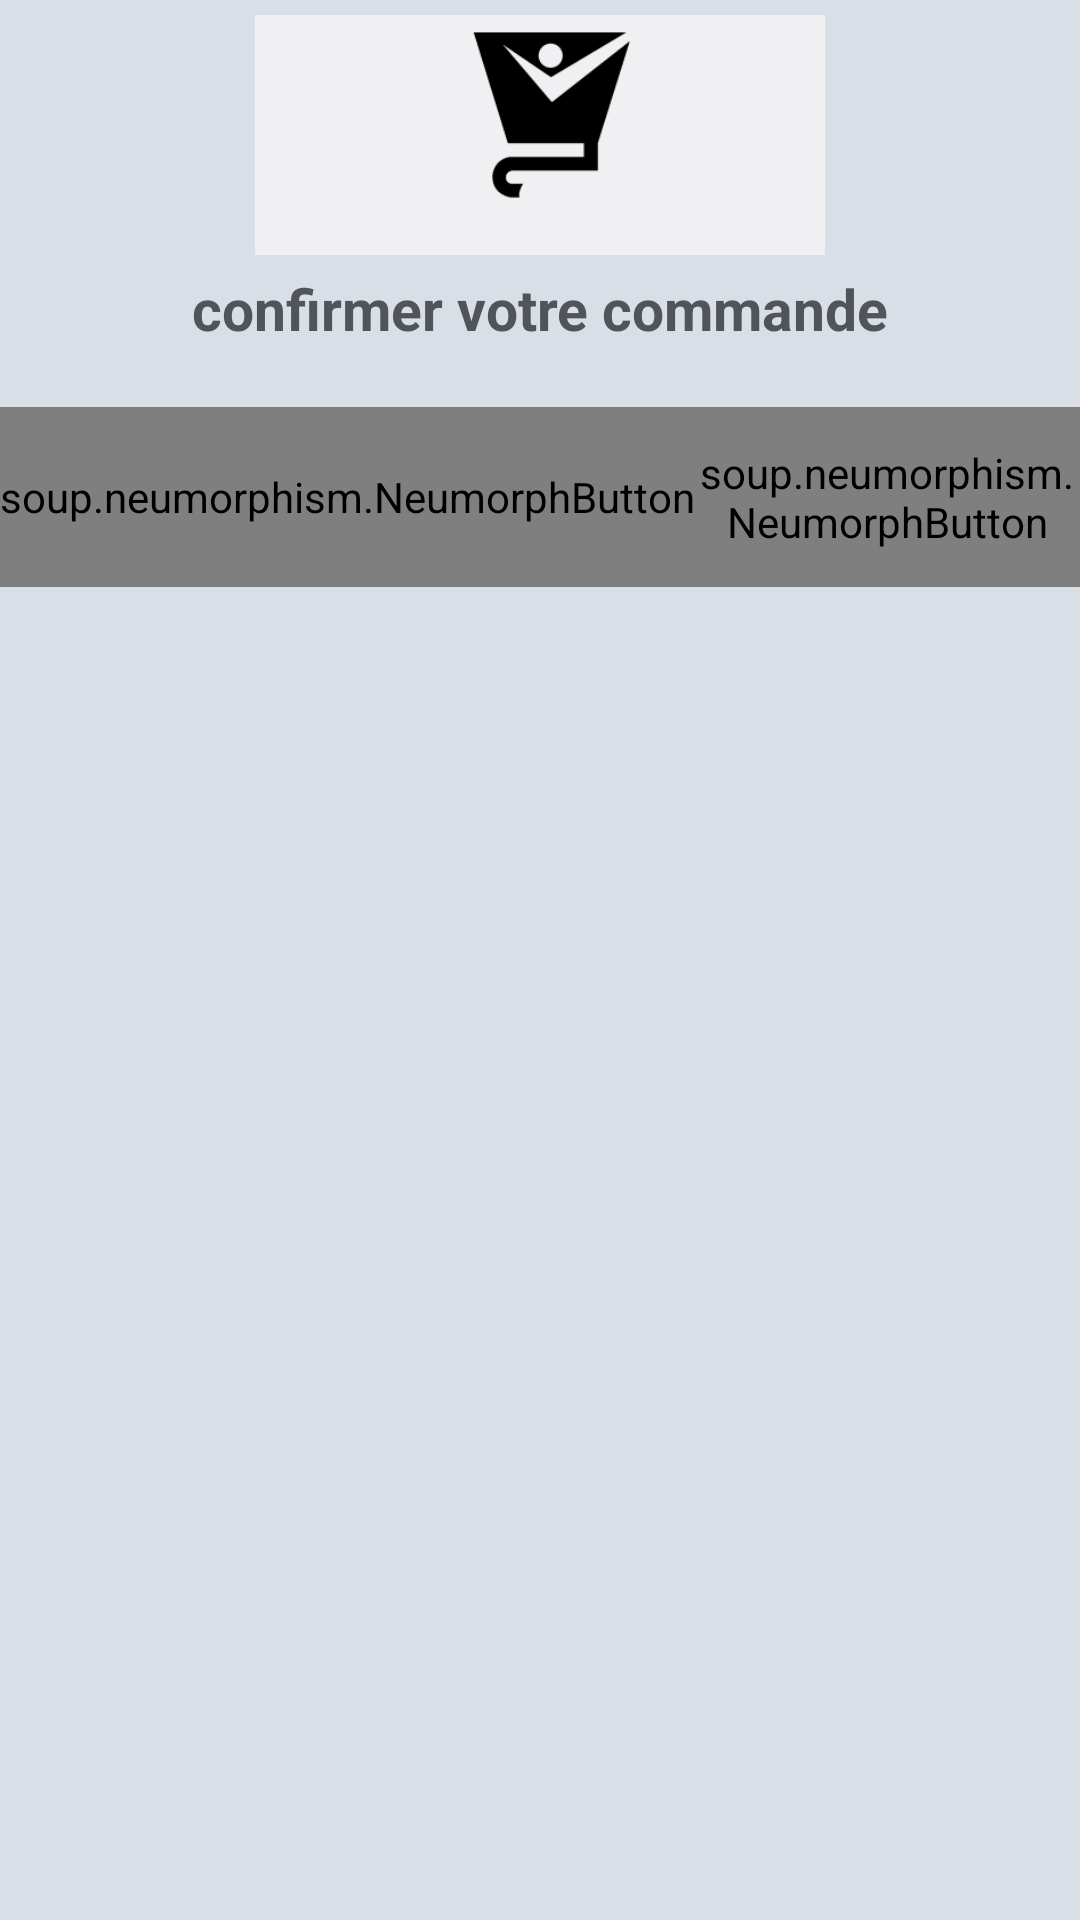

Icon click points for this 1080px x 1920px phone screenshot, format [x,y]:
acheter: [552,115]
